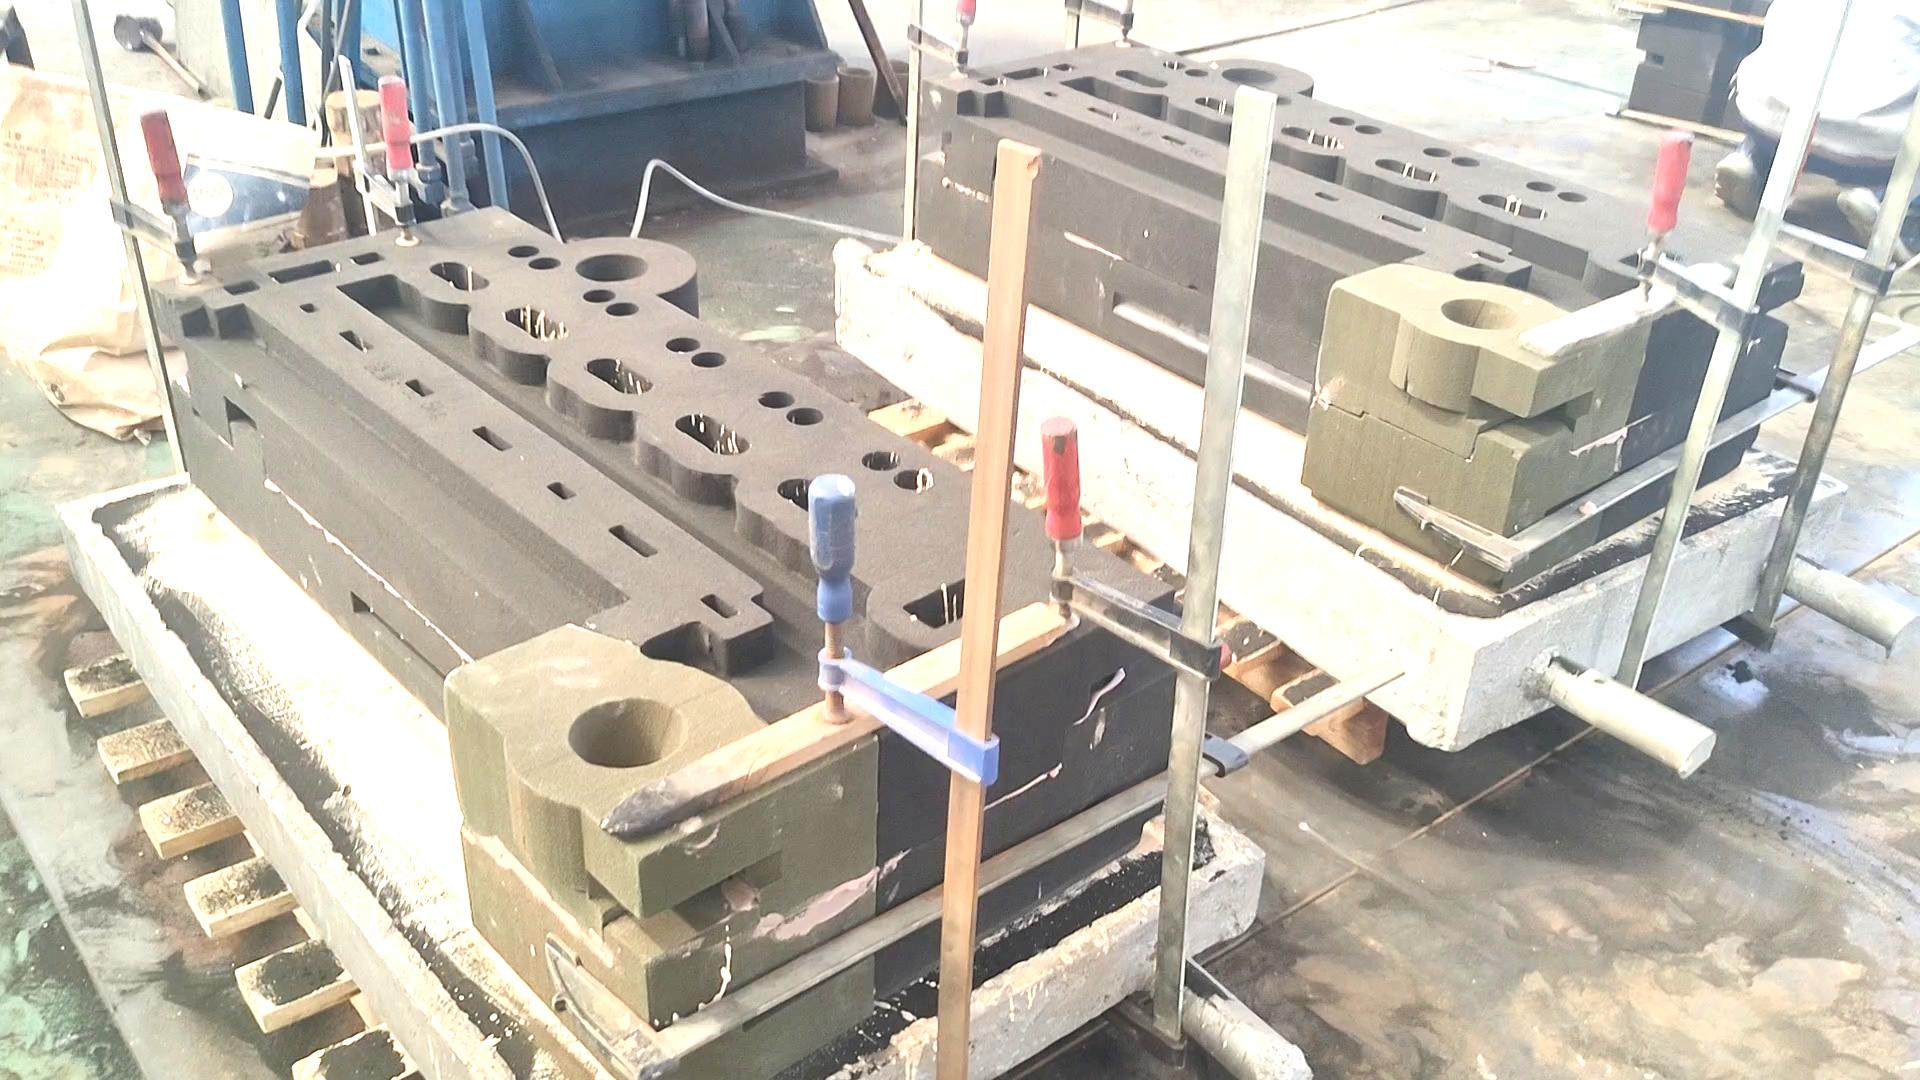pouring hole: (567, 698, 687, 770), (1437, 295, 1523, 331), (574, 253, 651, 284), (1220, 67, 1278, 83), (803, 69, 839, 83), (880, 59, 911, 75), (836, 66, 872, 78), (815, 54, 845, 65)
